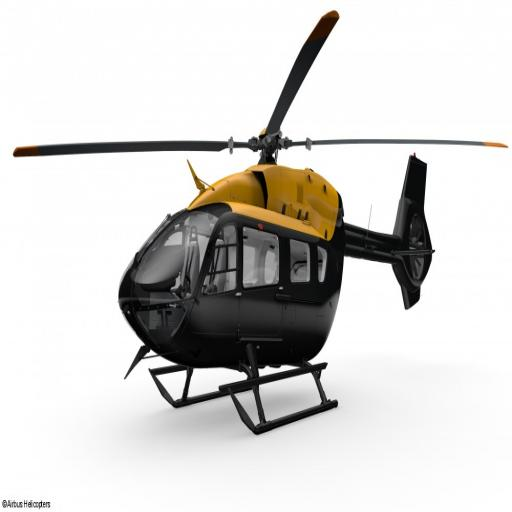helicopter: (14, 10, 512, 440)
